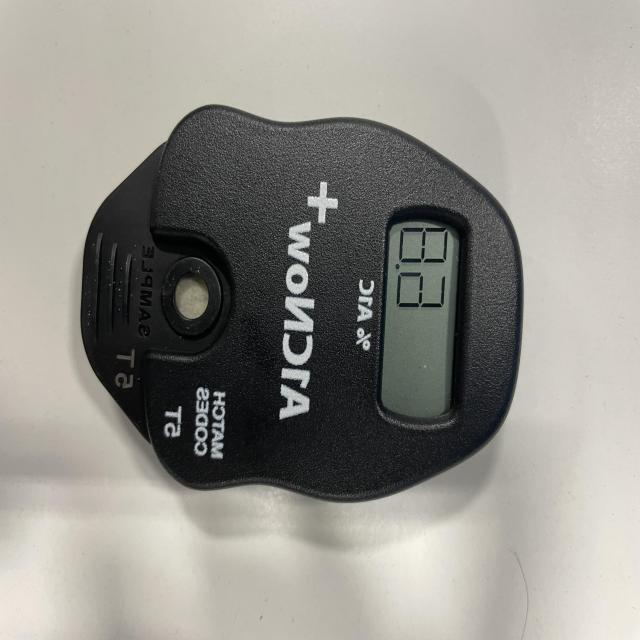hba1c: (79, 105, 523, 506)
